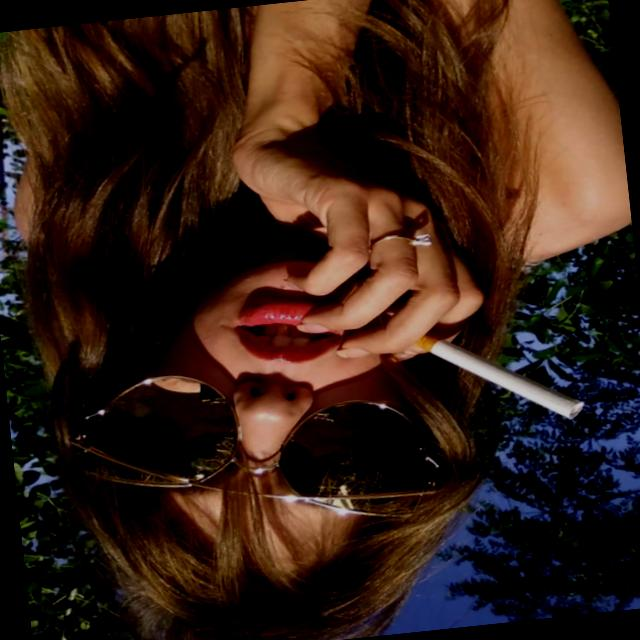cigarette: (404, 314, 590, 444)
